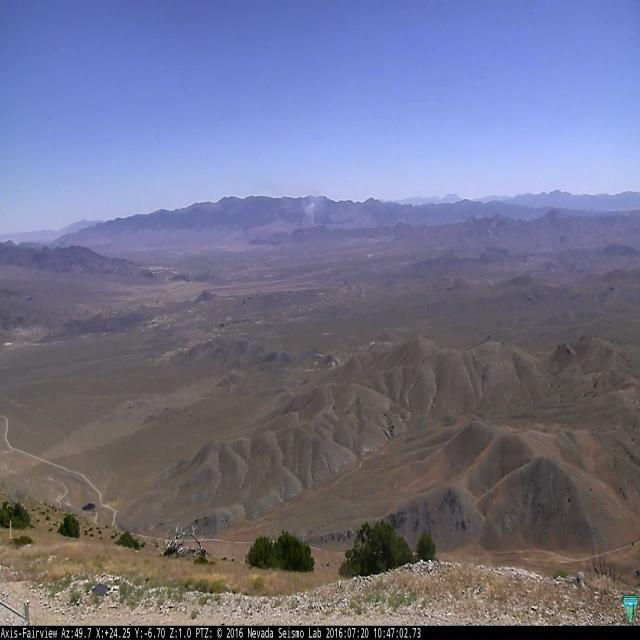smoke: (304, 201, 318, 224)
